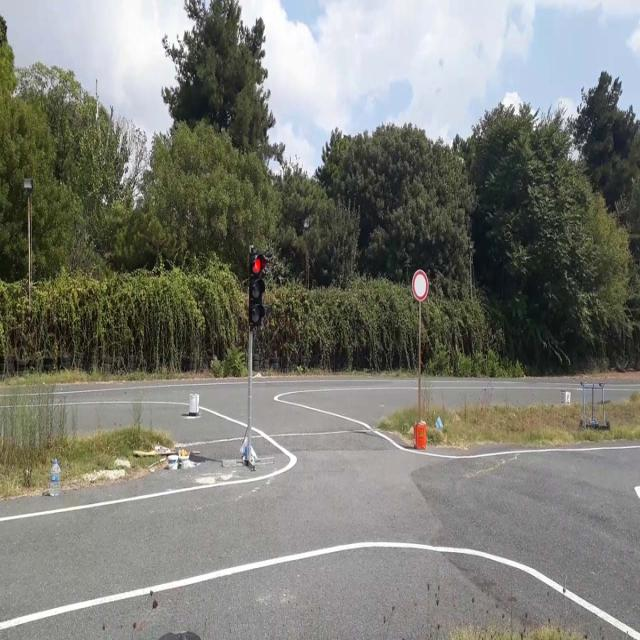kirmizi: (250, 252, 262, 324)
